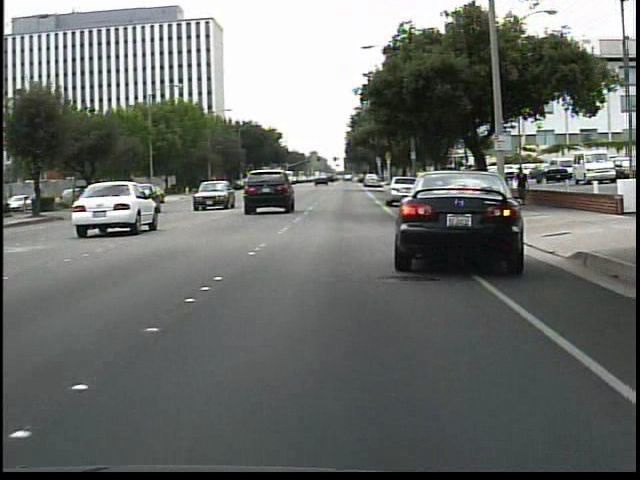person: (512, 162, 531, 201), (497, 166, 514, 206)
